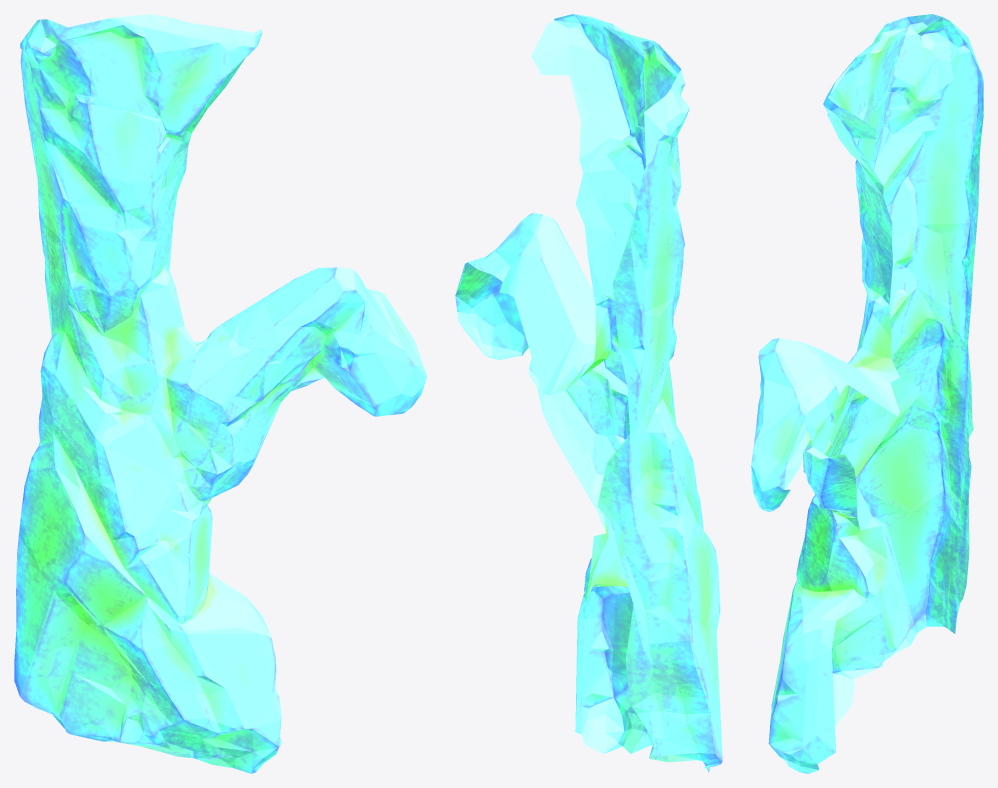
Rendered from RockPillar.fbx.
3 views of the same model, side by side, from view 1: azimuth 30°, elevation 25°; view 2: azimuth 150°, elevation 25°; view 3: azimuth 270°, elevation 25° (orthographic). The views are drawn at different scales.
Parts seen in each view (by area): view 1: HL_Fortress_Rock_Pillar.mo; view 2: HL_Fortress_Rock_Pillar.mo; view 3: HL_Fortress_Rock_Pillar.mo.
Part boxes in pixels (x1,y1,x2,y2): HL_Fortress_Rock_Pillar.mo: (14, 14, 426, 773); HL_Fortress_Rock_Pillar.mo: (455, 14, 722, 772); HL_Fortress_Rock_Pillar.mo: (751, 14, 983, 773).
Bounding box in the file's own units: 7722 × 16663 × 4970.
